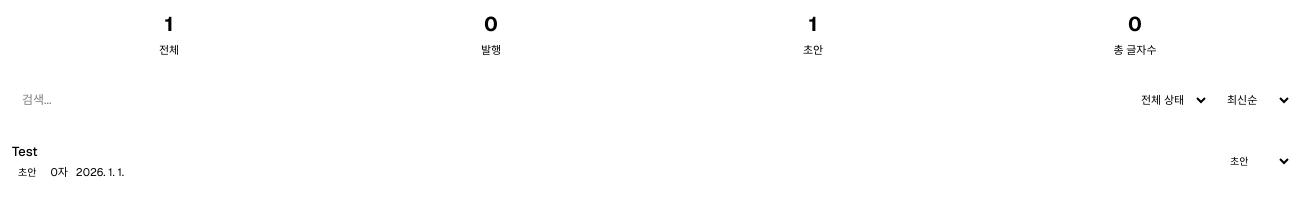
DashboardPanel › shows empty message when filters match nothing
Type "nonexistent-query-xyz" into the field with placeholder "검색..." at (568,100), box [12,85,1123,116]
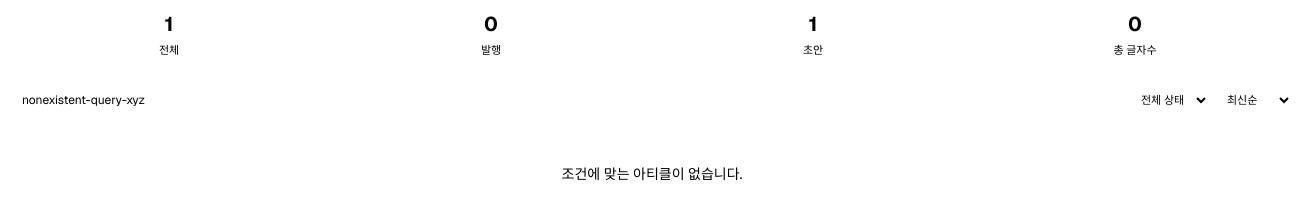
Result: the text "조건에 맞는 아티클이 없습니다." is shown at [562,165,742,183]
